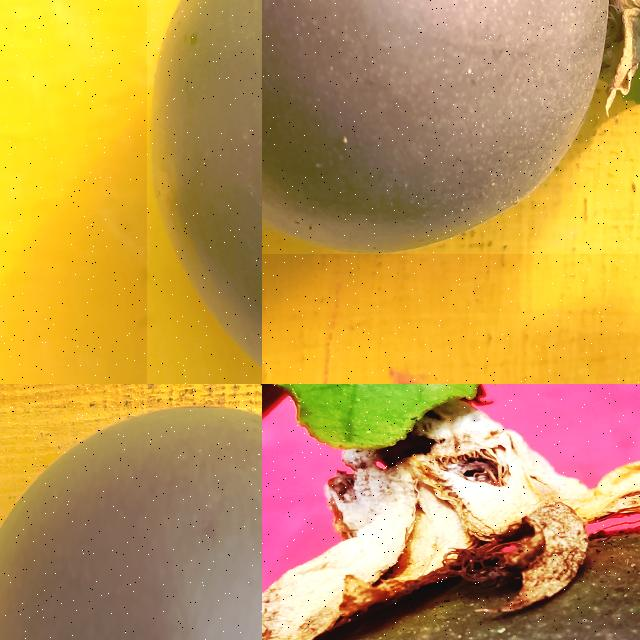Estado-3: (262, 384, 640, 640)
Estado-4: (262, 0, 640, 253)
Estado-6: (0, 407, 262, 640)
